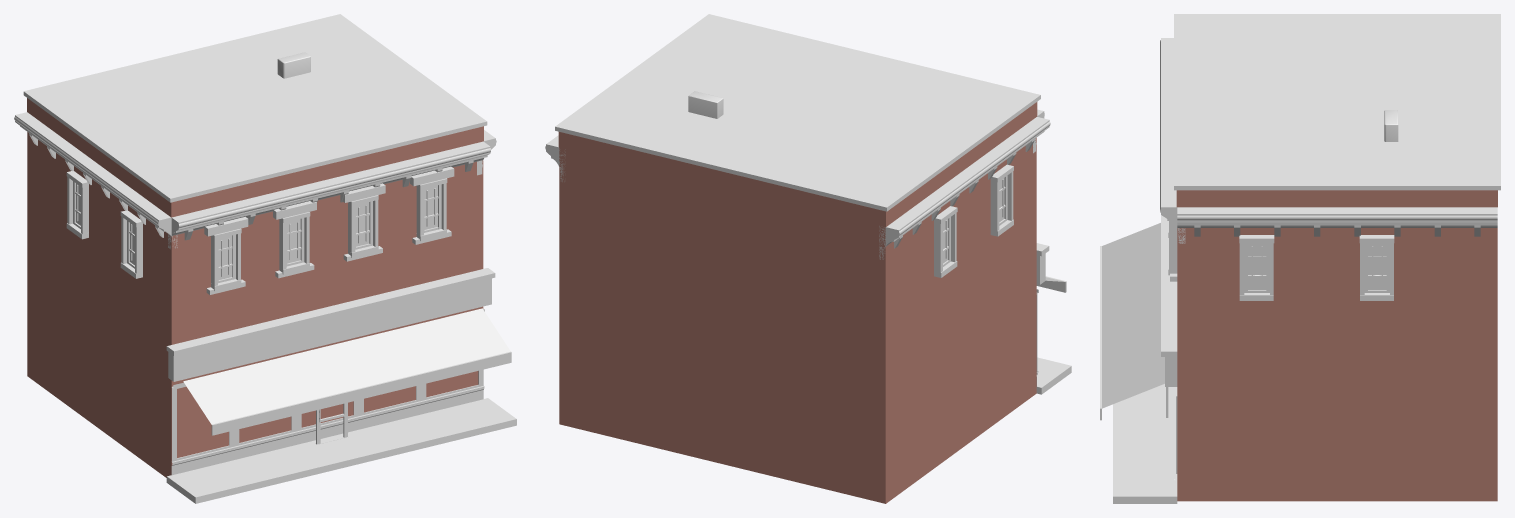
Rendered from lm_catalyst.lite.glb.
The picture shows the model from 3 angles, left to right: view 1: azimuth 30°, elevation 25°; view 2: azimuth 150°, elevation 25°; view 3: azimuth 270°, elevation 25°; orthographic projection. The views are drawn at different scales.
Parts seen in each view (by area): view 1: lm_catalyst; view 2: lm_catalyst; view 3: lm_catalyst.
Boxes of the visible parts, box(x1,y1,x2,y2) form: lm_catalyst: box(14, 14, 516, 503); lm_catalyst: box(545, 14, 1071, 503); lm_catalyst: box(1100, 14, 1500, 503).
Size of the model in its own units: 19 by 16.12 by 17.51.
